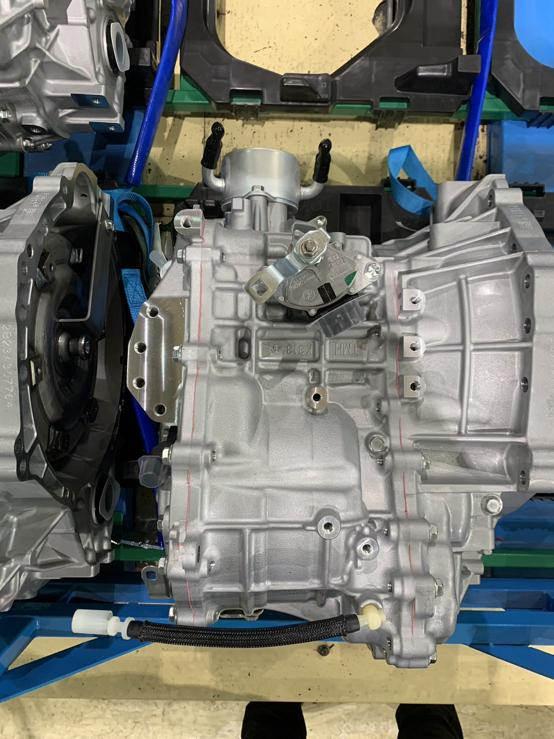gearbox_type1: (108, 154, 553, 642)
gearbox_type1_FP1: (398, 284, 430, 315)
gearbox_type1_FP2: (400, 330, 426, 361)
gearbox_type1_FP3: (172, 204, 205, 242)
